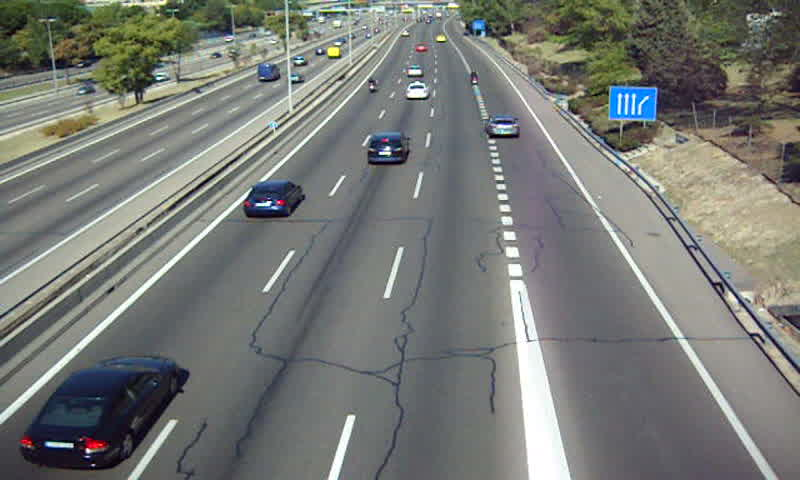car: (19, 356, 181, 466), (243, 181, 303, 218), (366, 132, 409, 164), (484, 114, 521, 138), (405, 82, 429, 101), (406, 64, 422, 77)
motorcycle: (368, 74, 377, 96), (469, 70, 480, 87)
